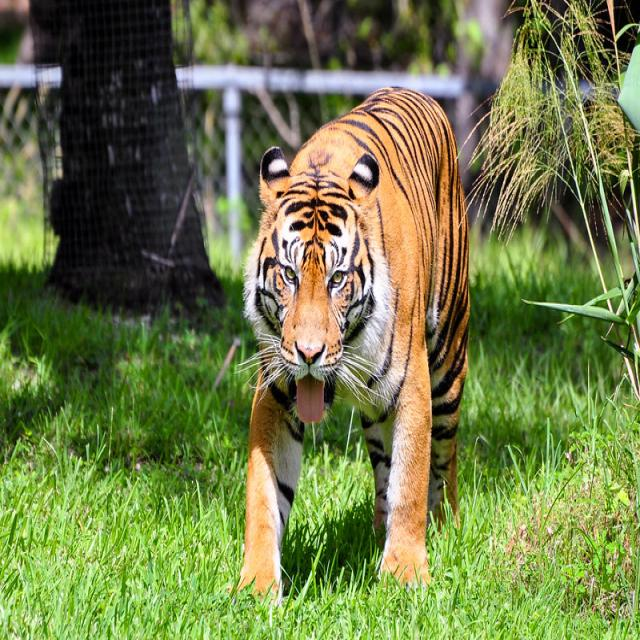Tiger: (230, 85, 470, 604)
